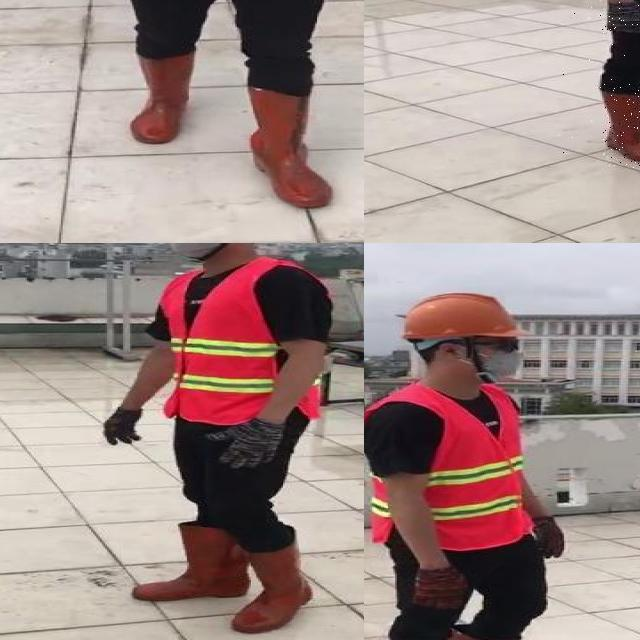boots: (234, 90, 332, 208), (132, 522, 249, 601), (231, 535, 317, 635), (126, 54, 192, 144), (603, 84, 640, 169)
face_mask: (472, 336, 526, 380), (156, 243, 231, 260)
glasses: (482, 334, 527, 356)
hand_glove: (210, 421, 283, 471), (413, 569, 473, 609), (532, 516, 566, 559), (102, 408, 139, 446)
head_helmet: (398, 290, 534, 338)
person: (87, 243, 350, 635), (364, 286, 570, 640), (60, 0, 364, 211), (555, 0, 640, 166)
vest: (364, 385, 531, 550), (158, 262, 326, 425)
